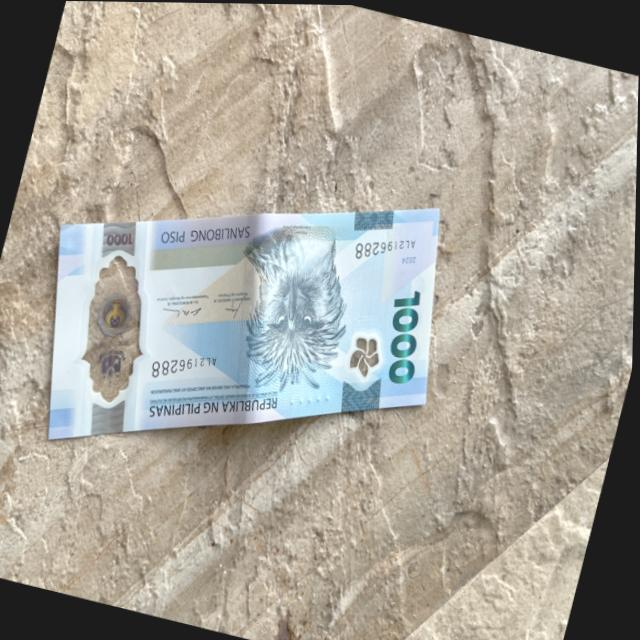clear_window: (61, 245, 168, 415)
eagle: (229, 217, 358, 411)
sampaguita: (345, 327, 388, 383)
